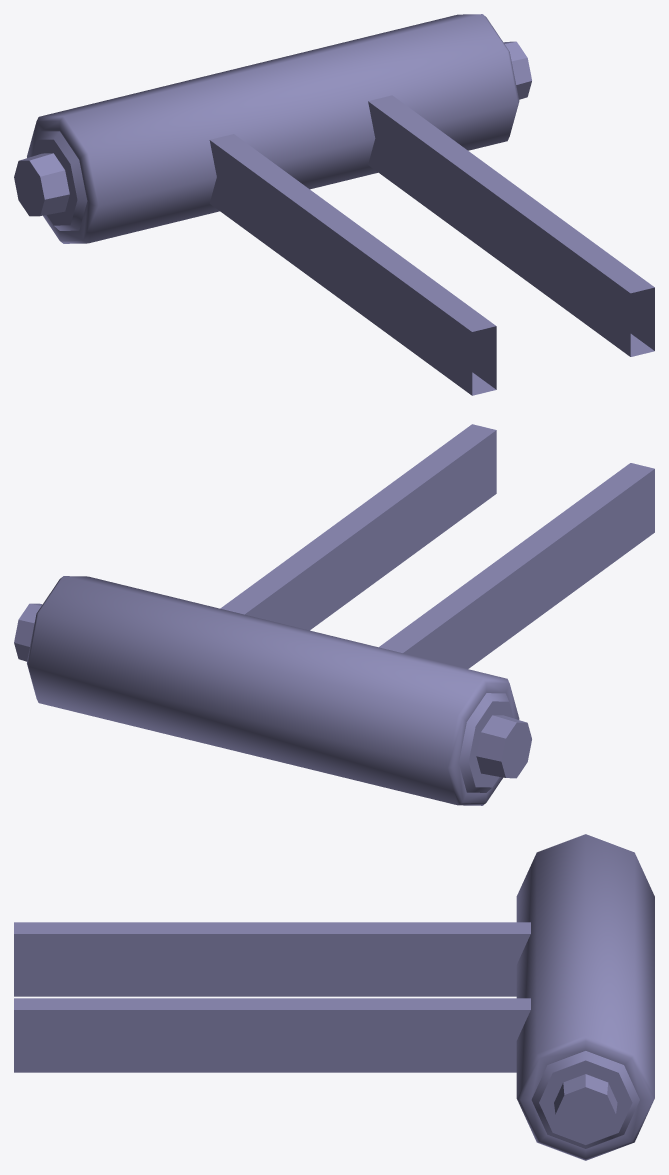
Rendered from switch_mall_lever.FBX.
3 renders of one model, top to bottom at view 1: azimuth 30°, elevation 25°; view 2: azimuth 150°, elevation 25°; view 3: azimuth 270°, elevation 25°, orthographic.
Visible parts, largest first — view 1: switch_mall_lever; view 2: switch_mall_lever; view 3: switch_mall_lever.
Boxes of the visible parts, left/top/right/bottom form: switch_mall_lever: left=14, top=14, right=654, bottom=395; switch_mall_lever: left=14, top=424, right=654, bottom=805; switch_mall_lever: left=14, top=834, right=654, bottom=1160.
Size of the model in its own units: 0.04 by 0.01 by 0.0463.
